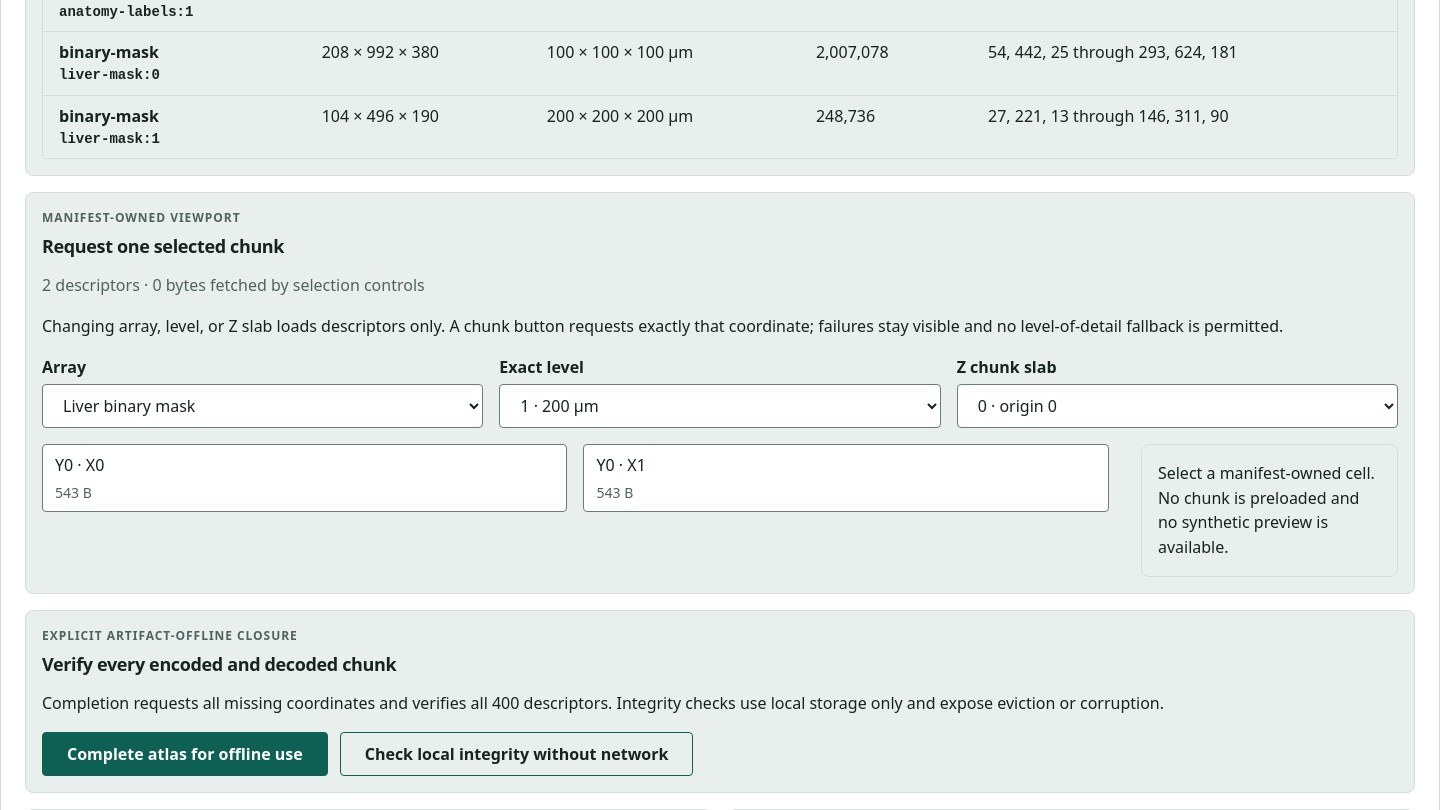
MeasuredSpatialLiverAtlas › loads no bytes for viewport controls and requests only the selected manifest-owned chunk
This screenshot has width=1440, height=810.
(page scrolled)
Select "0 · origin 0" in the dropdown labelled "Z chunk slab": (1177, 406) top-left (957, 384), bottom-right (1398, 428)
Click the button named "Request Y 0, X 0": click(80, 465) top-left (42, 444), bottom-right (568, 512)
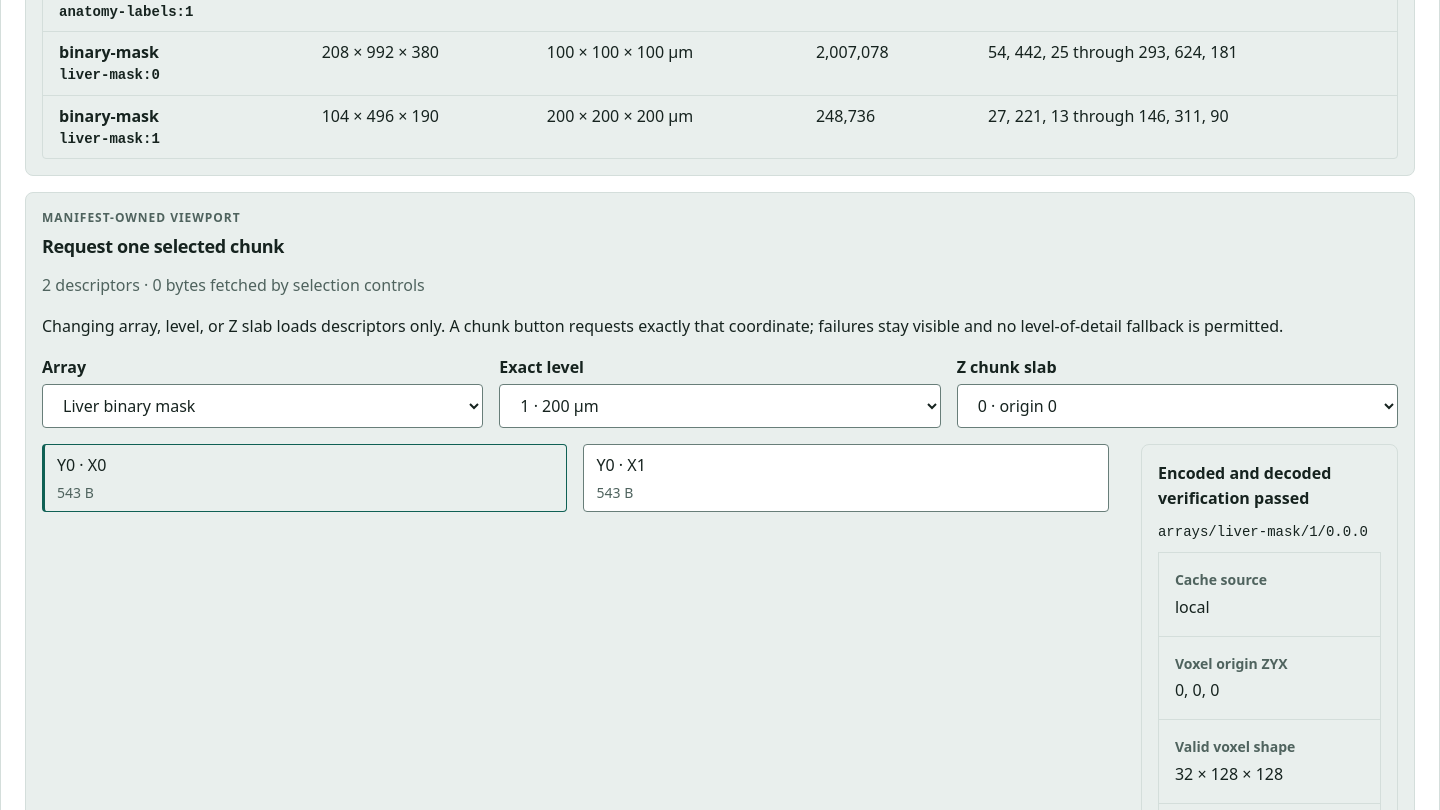
Check: the text "Encoded and decoded verification passed" is shown, box top-left (1158, 462), bottom-right (1331, 509)
Check: the text "local" is shown, box top-left (1175, 596), bottom-right (1210, 618)
